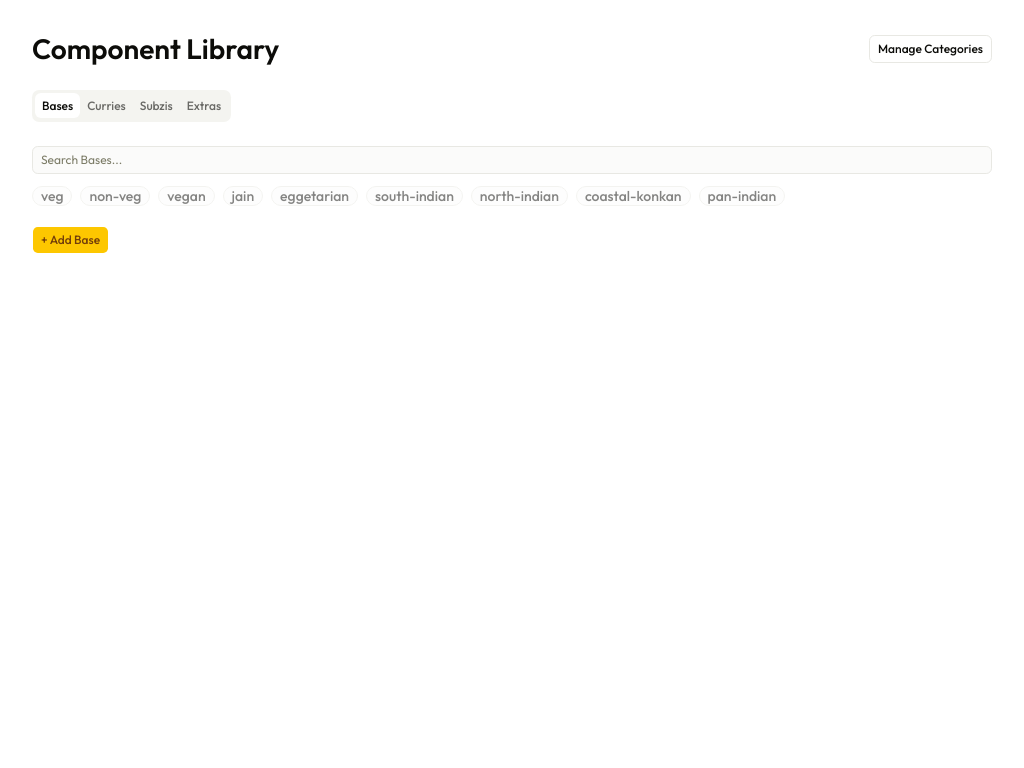
Scenario: CategoryManager › exposes Manage Categories from the library header and shows both category kinds in the sheet
This screenshot has width=1024, height=768.
Click the button "Manage Categories".
click(930, 49)  # box x1=869 y1=35 x2=992 y2=63
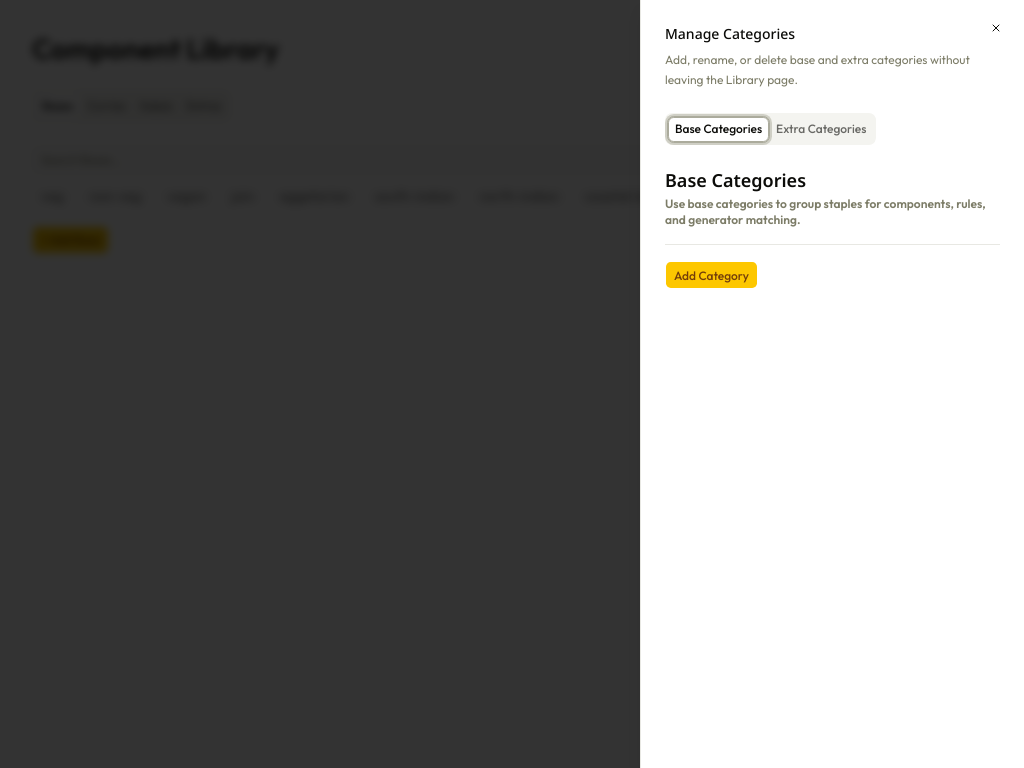
Check: the heading "Manage Categories" is shown, box x1=665 y1=24 x2=795 y2=43
Check: the tab "Extra Categories" is shown
Check: the text "Use base categories to group staples for components, rules, and generator matching." is shown, box x1=665 y1=196 x2=986 y2=227
Click the tab "Extra Categories".
click(821, 129)  # box x1=769 y1=116 x2=873 y2=142
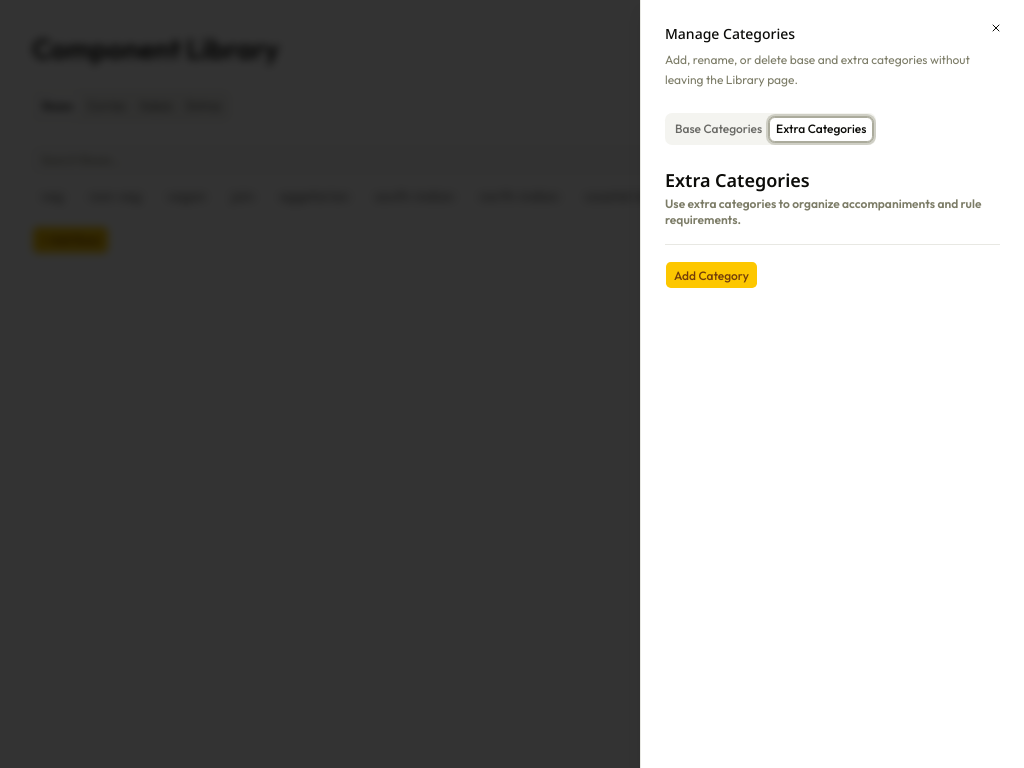
Check: the text "Use extra categories to organize accompaniments and rule requirements." is shown, box x1=665 y1=196 x2=1000 y2=228
